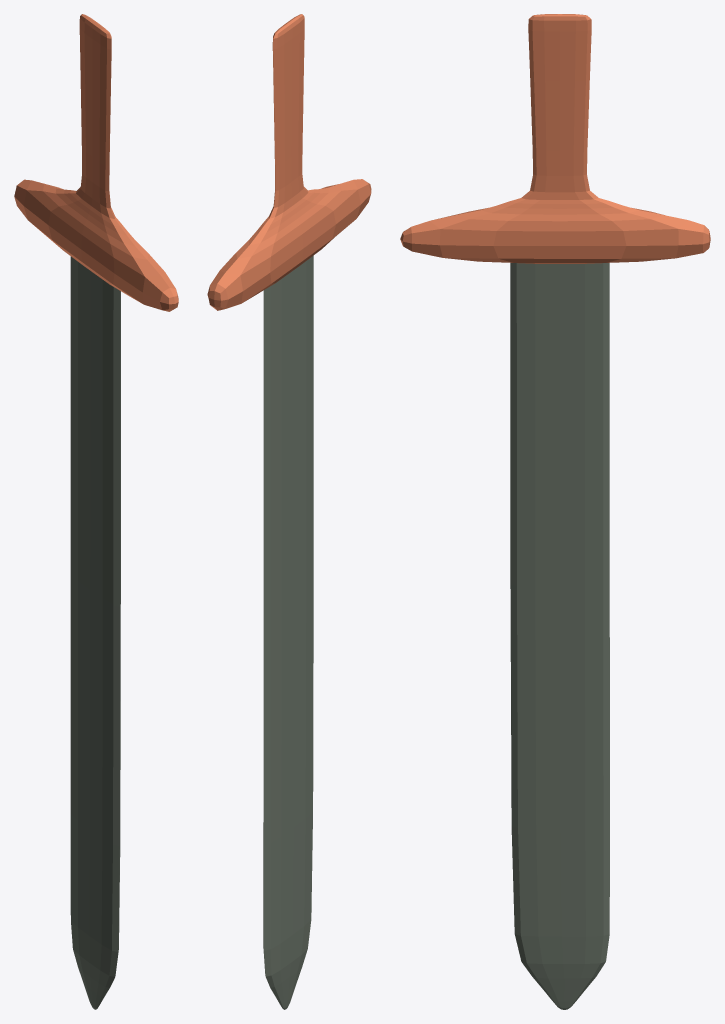
File: Sword.fbx
3 views of the same model, side by side, from view 1: azimuth 30°, elevation 25°; view 2: azimuth 150°, elevation 25°; view 3: azimuth 270°, elevation 25° (orthographic).
Parts seen in each view (by area): view 1: Blade, Hilt; view 2: Blade, Hilt; view 3: Blade, Hilt.
Boxes of the visible parts, x1,y1,x2,y2 form: Blade: [70, 256, 120, 1009]; Hilt: [14, 14, 178, 311]; Blade: [263, 255, 313, 1009]; Hilt: [207, 14, 371, 310]; Blade: [510, 263, 609, 1009]; Hilt: [400, 14, 710, 263].
Size of the model in its own units: 35.27 by 1135 by 321.
